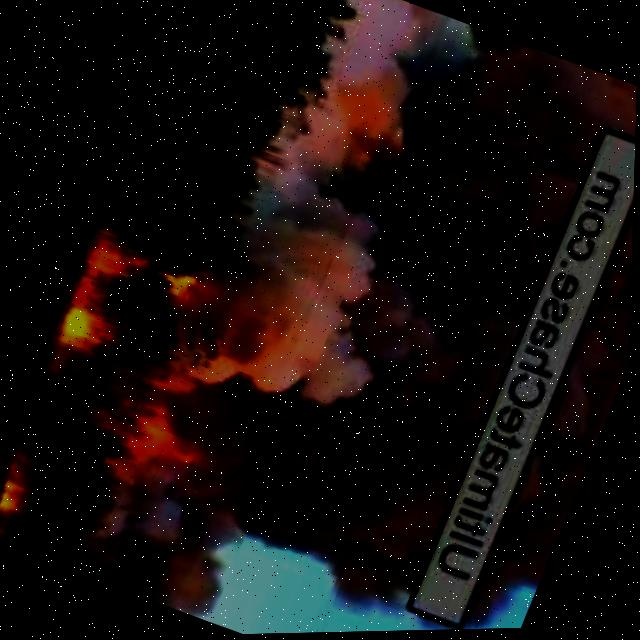Fire: (49, 221, 204, 381), (124, 395, 234, 478), (0, 469, 34, 518)
Smoke: (93, 0, 620, 638), (460, 103, 637, 632)
